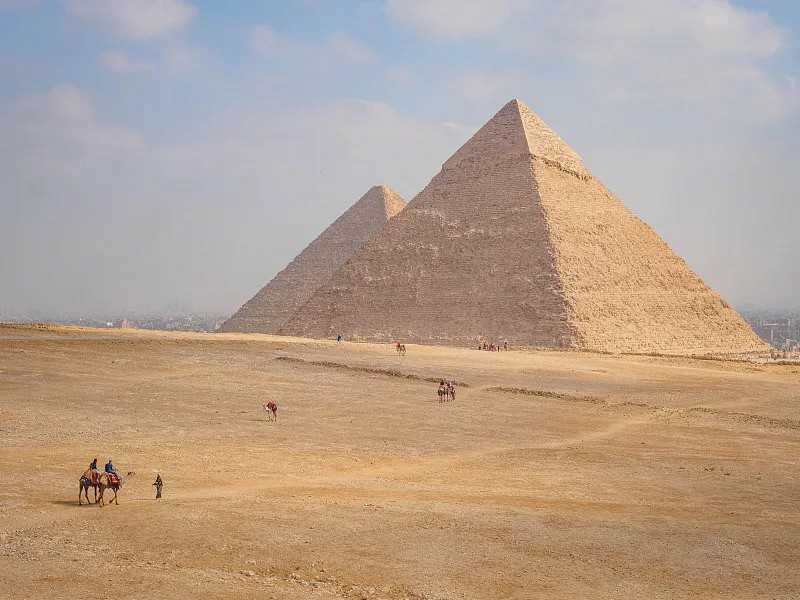Pyramid: (275, 98, 775, 355), (217, 184, 406, 333)
